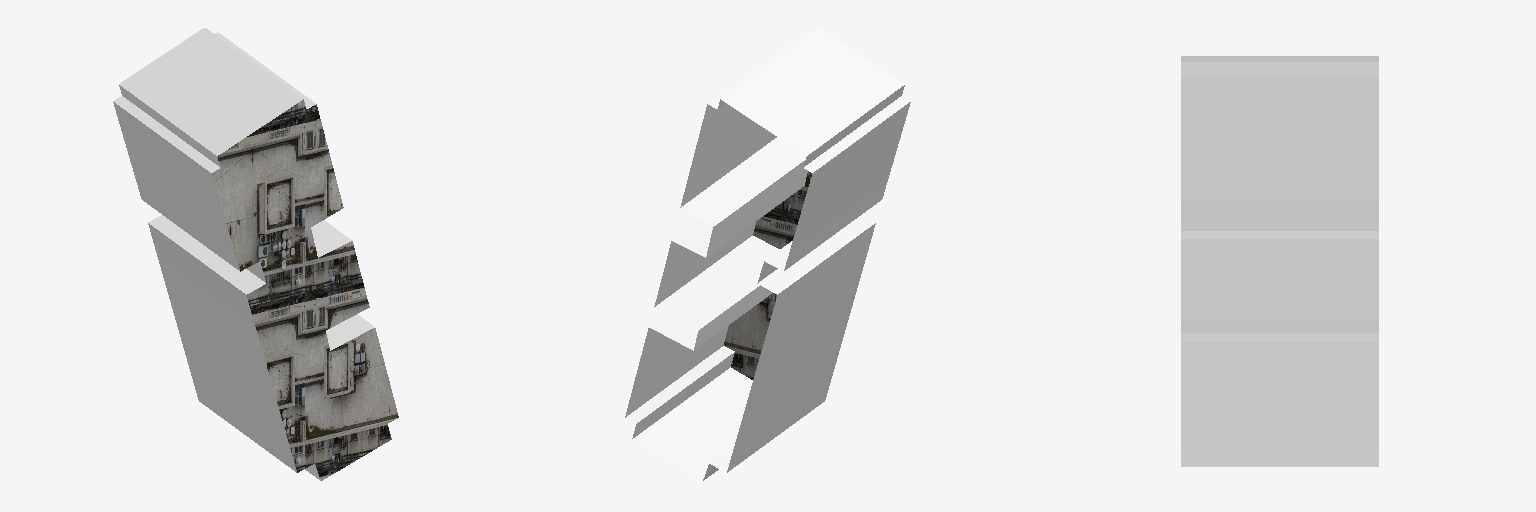
3 views of the same model, side by side, from view 1: azimuth 30°, elevation 25°; view 2: azimuth 150°, elevation 25°; view 3: azimuth 270°, elevation 25° (orthographic).
Parts seen in each view (by area): view 1: Building; view 2: Building; view 3: Building.
Boxes of the visible parts, <box> form: Building: <box>113,28,398,480</box>; Building: <box>625,28,910,480</box>; Building: <box>1181,56,1378,466</box>.
Bounding box in the file's own units: 13.19 × 25.93 × 12.
Materials: 2 (1 with a texture image).